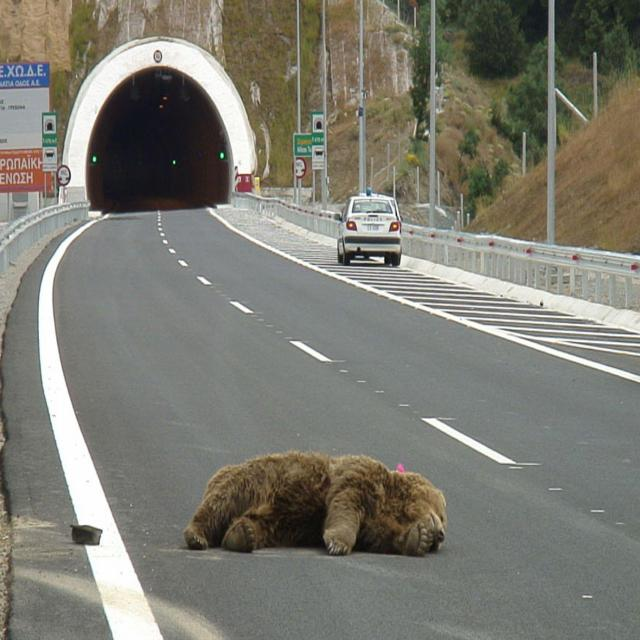Bear: (183, 451, 447, 560)
